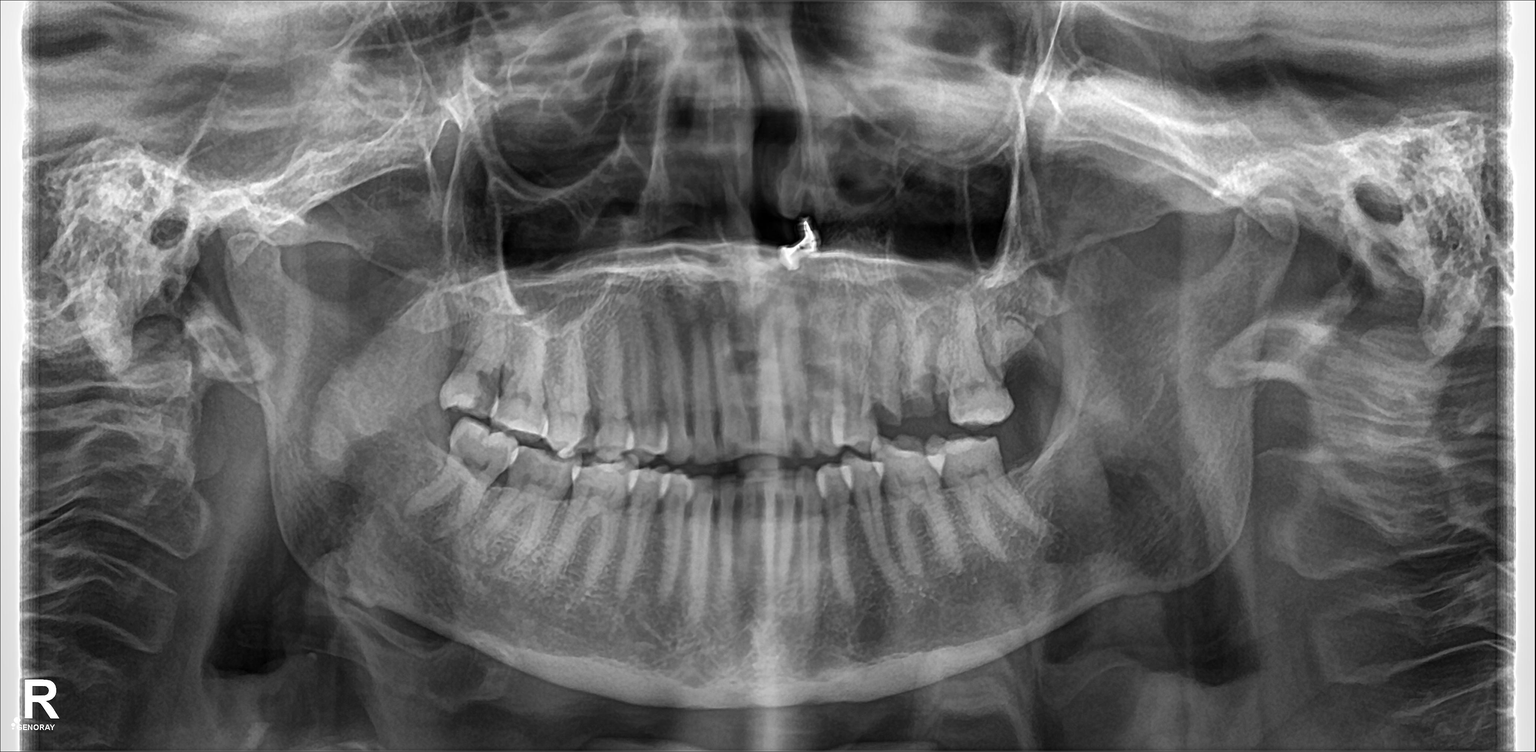Dental Caries: (477, 369, 507, 414)
Missing Tooth: (993, 307, 1043, 407), (868, 316, 903, 439), (1007, 441, 1058, 500)
